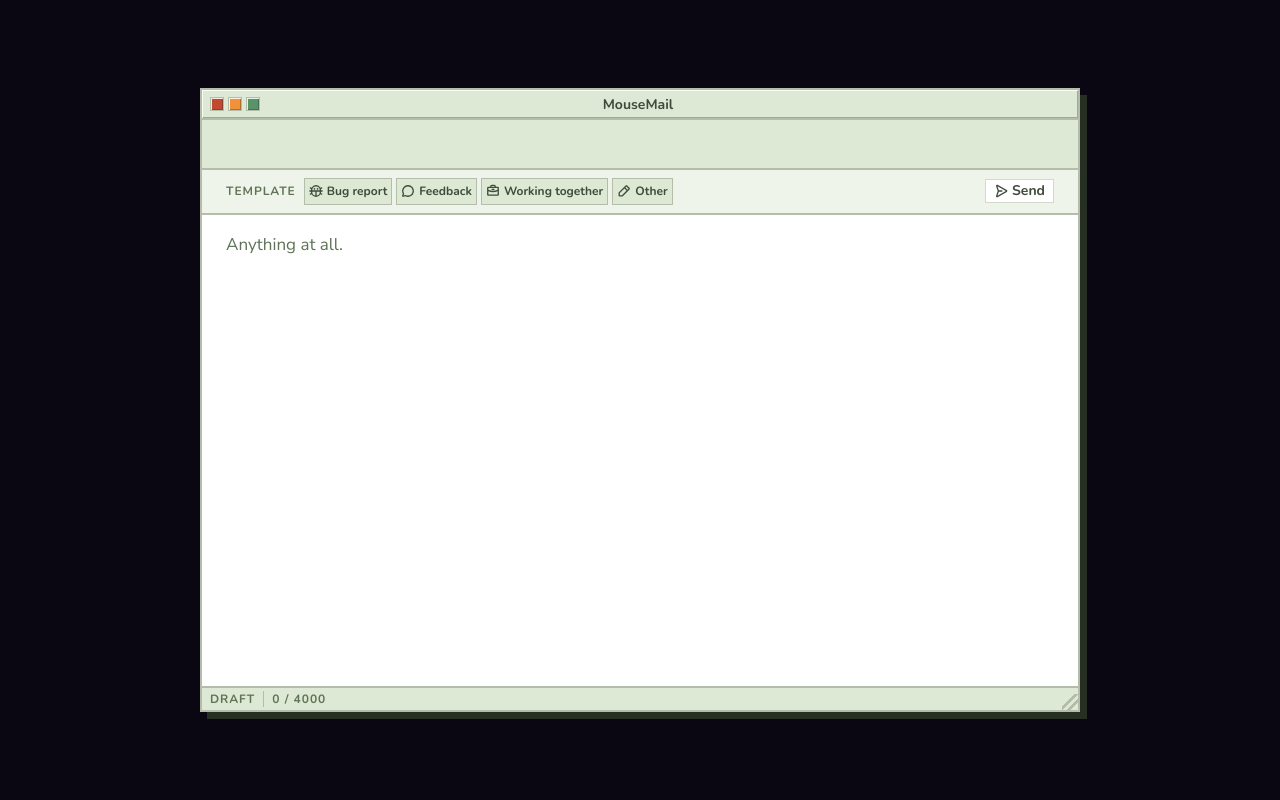
MouseMailWindow › keeps what was typed underneath, switched off
Type "the lantern flickers" into the text box named "message" at [640, 450], box [202,215,1078,686]
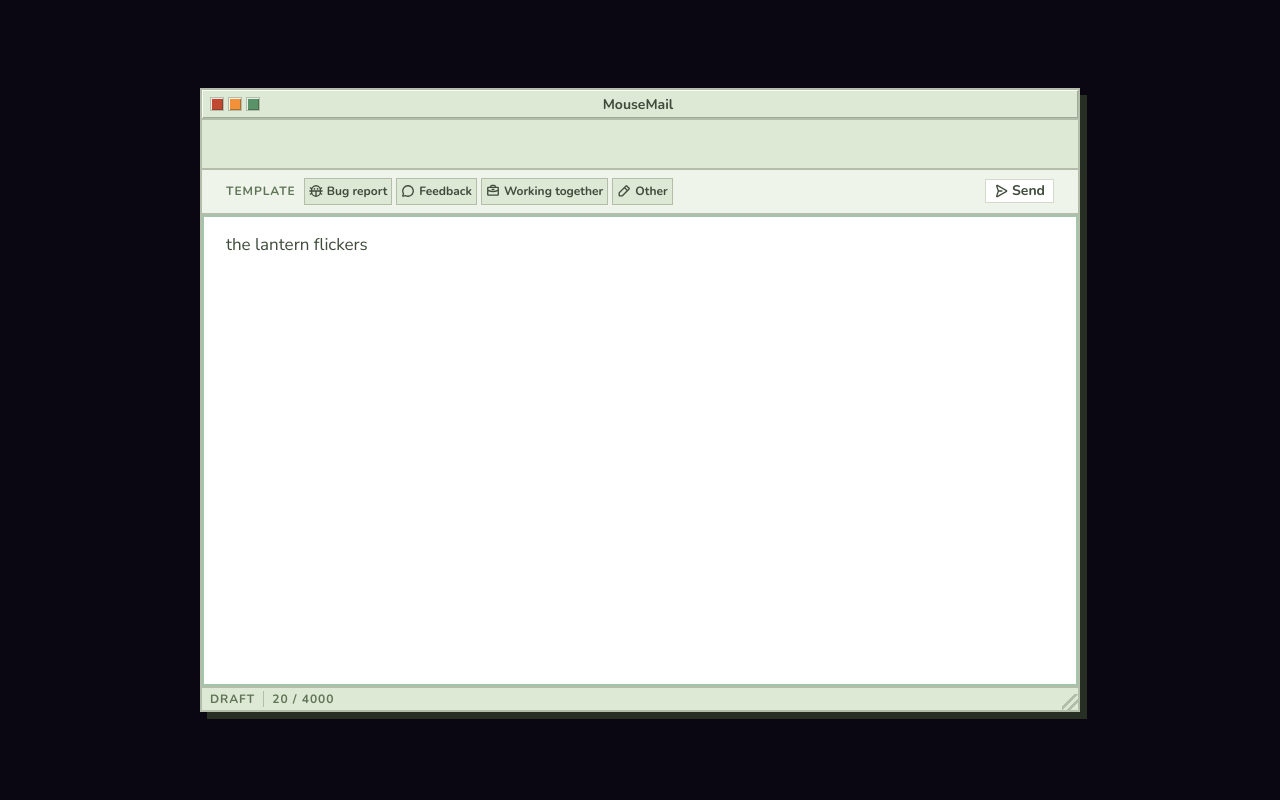
Click the button "Send" at [1020, 191], box [985,179,1054,203]
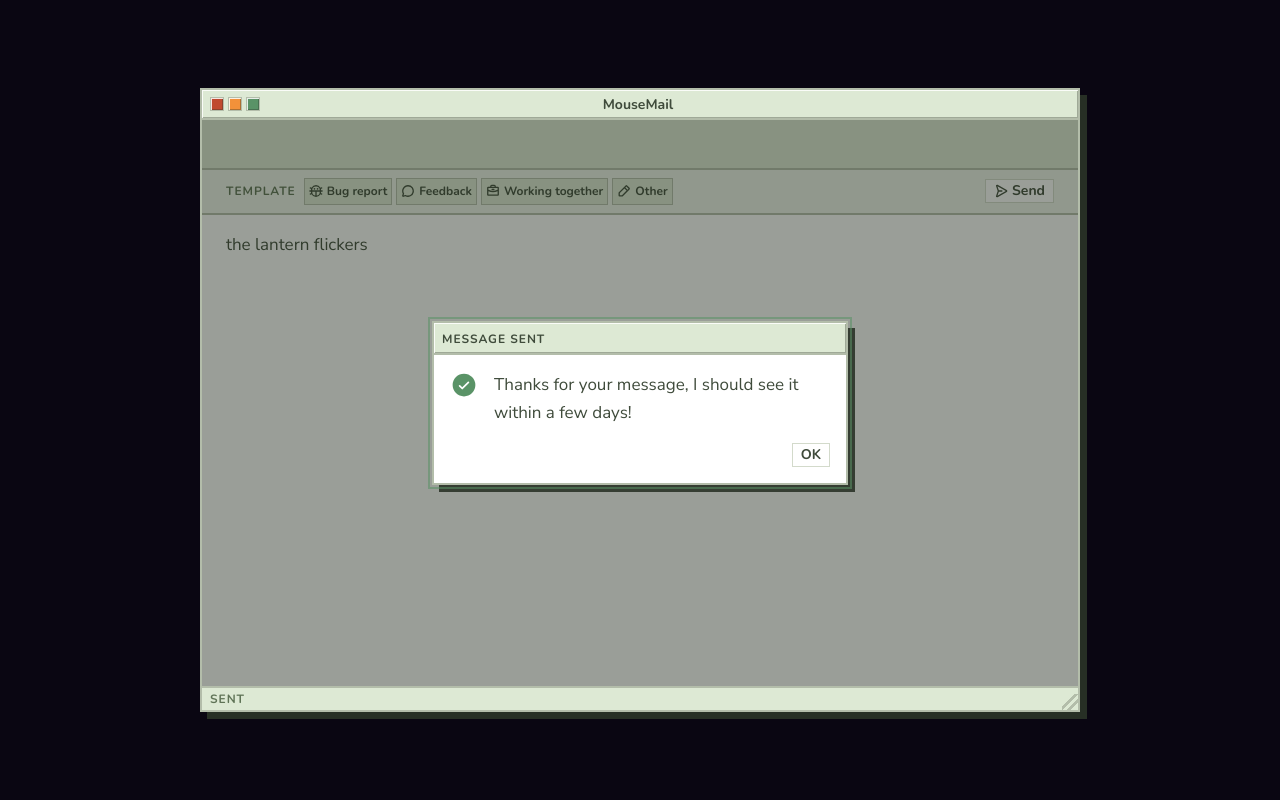
Expected: the dialog is shown, [432,322,848,485]
Expected: the text "Thanks for your message, I should see it within a few days!" is shown, [494,372,830,427]
